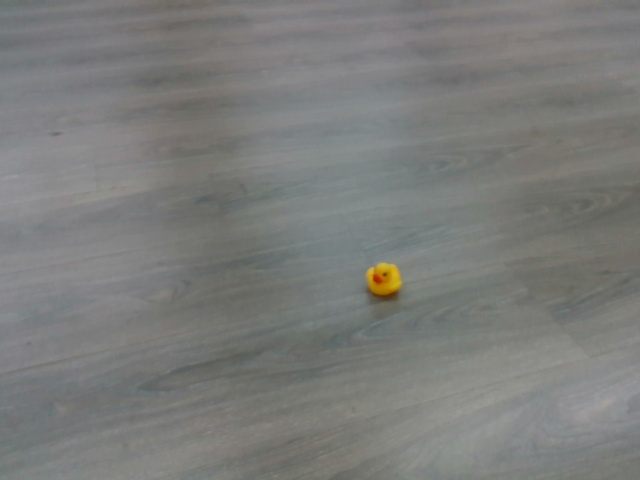duck: (365, 260, 402, 297)
